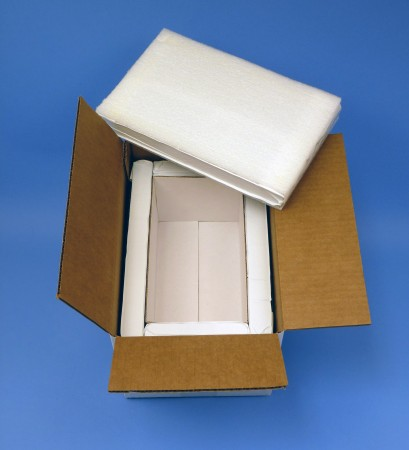Boxes: (120, 160, 273, 337)
